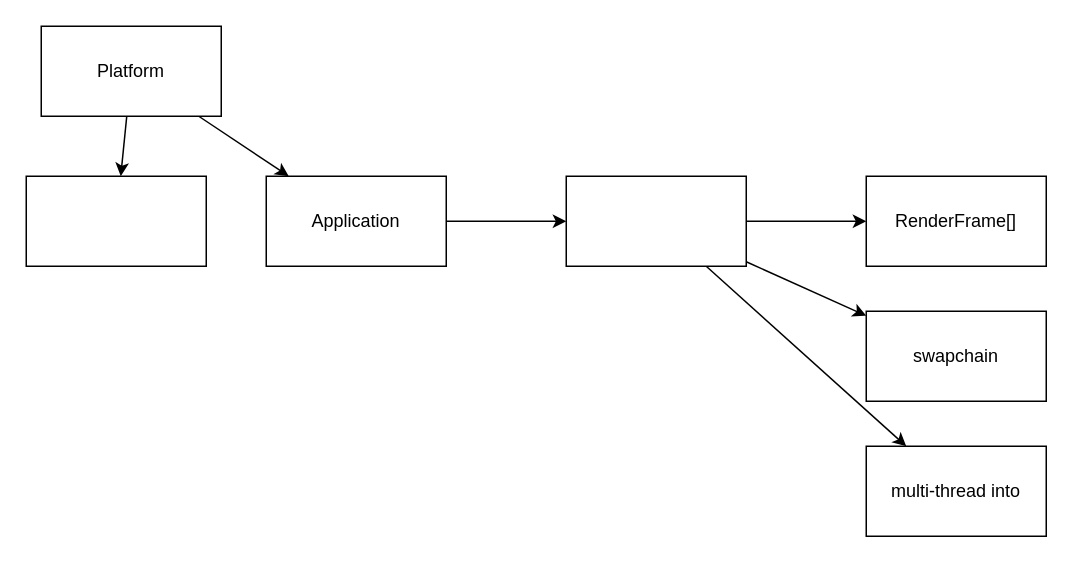
Image size: 1073x563. Some labels were removed from this diagram. Here are the shapes that lost their labels. From the top down, the centre of each, then its label:
(115,220): Window
(655,220): RenderContext
